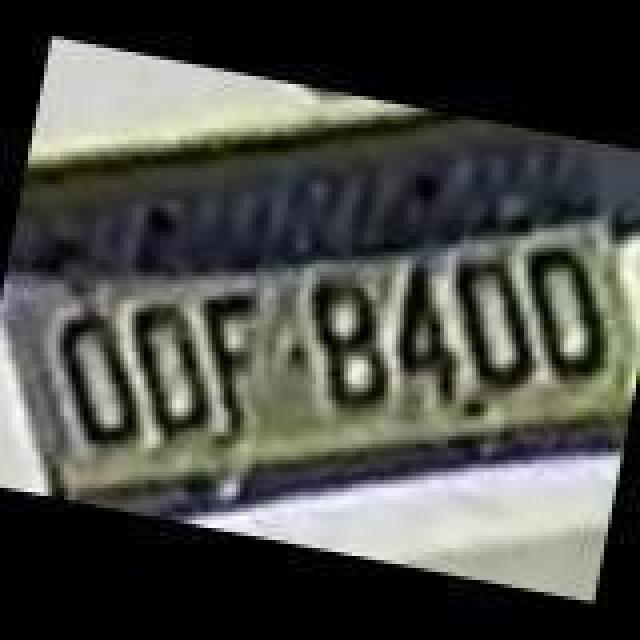4: (382, 260, 482, 412)
8: (286, 272, 402, 416)
F: (176, 280, 272, 432)
O: (106, 288, 230, 440), (502, 238, 626, 386), (36, 300, 156, 452), (432, 244, 552, 396)
